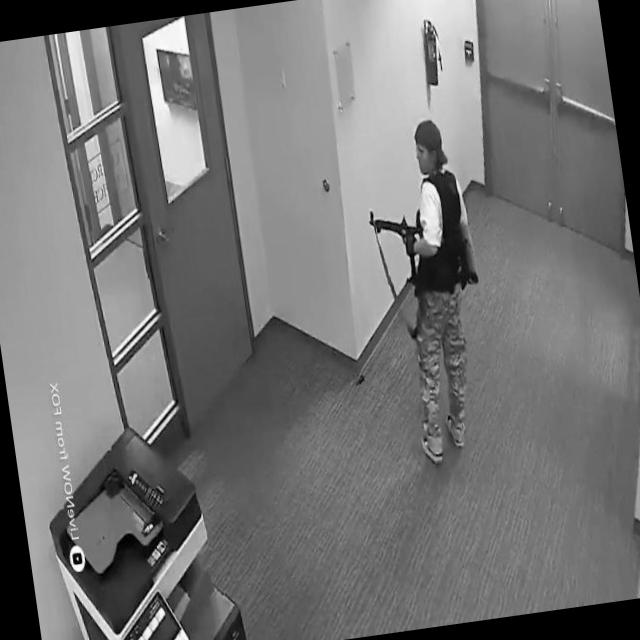gun: (363, 198, 426, 269)
person with a gun: (352, 111, 508, 477)
